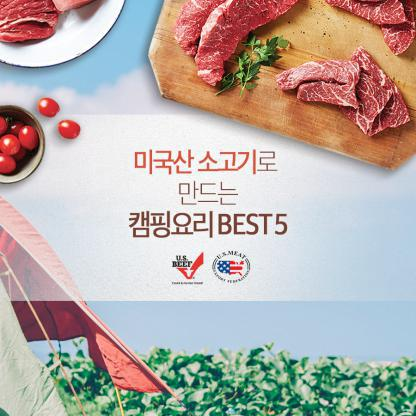beef: (278, 49, 408, 130), (182, 4, 287, 69), (330, 0, 415, 49)
